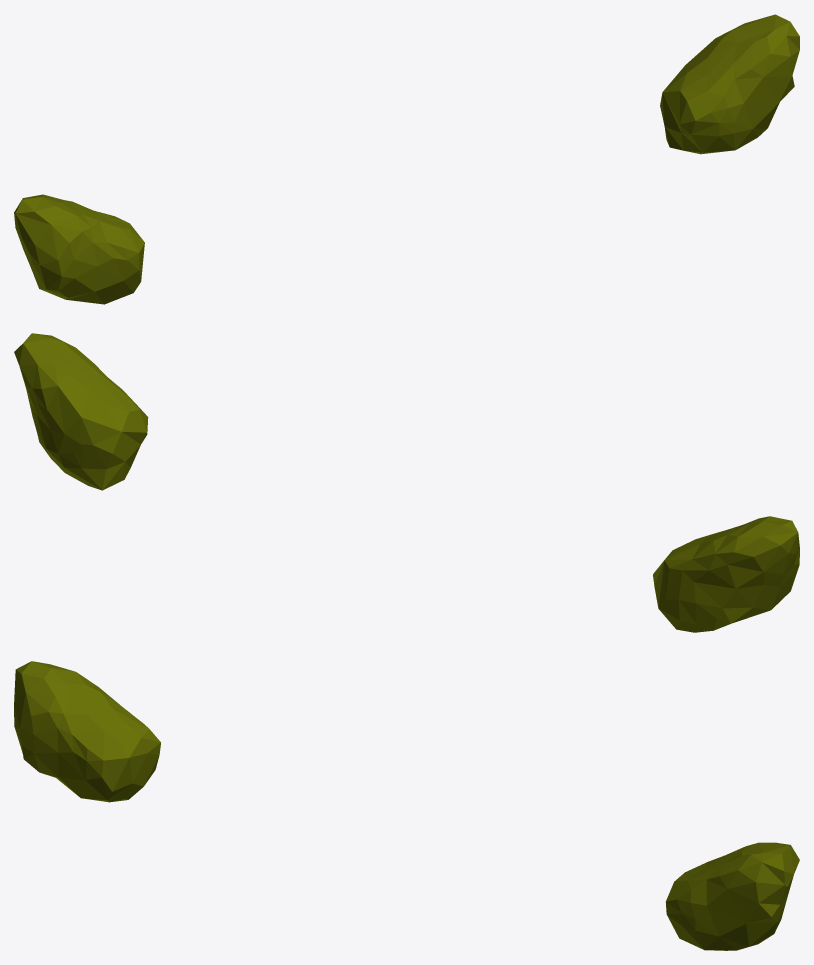
The model's file is 169-11L-area 11 of cortex, lateral part-('0.4588', '0.4980', '0.0000').obj.
3 views of the same model, one above another, from view 1: azimuth 30°, elevation 25°; view 2: azimuth 150°, elevation 25°; view 3: azimuth 330°, elevation 25° (orthographic).
Bounding box in the file's own units: 158 × 22.89 × 16.12.
